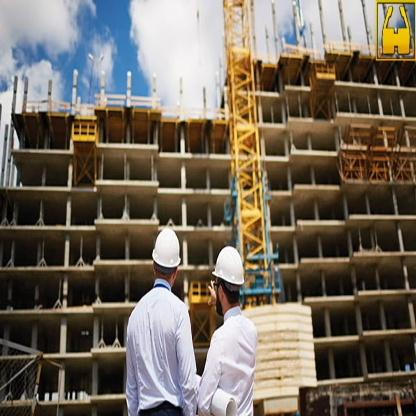helmet: (204, 242, 252, 309), (142, 224, 180, 289)
